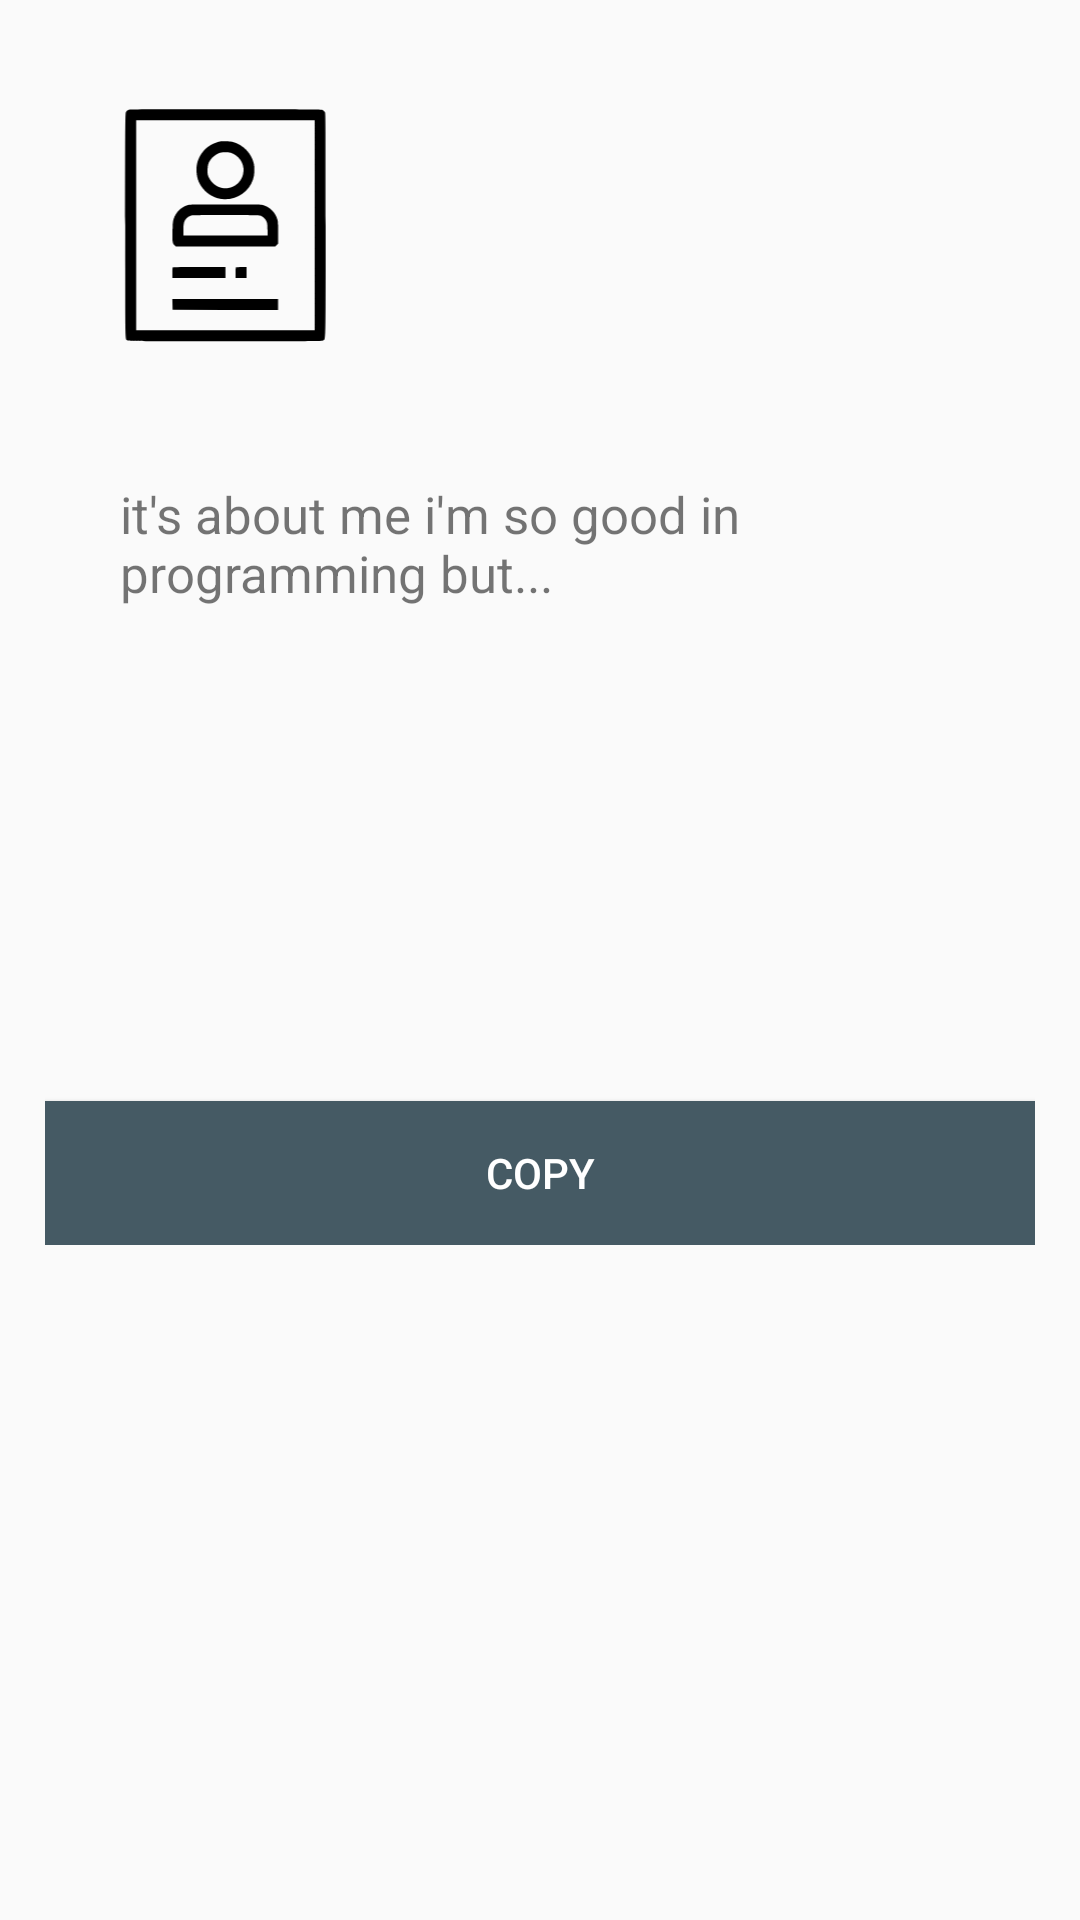

Where to tap for icons on this 1080*1920 app screen, as (x,y):
biography: (225,225)
